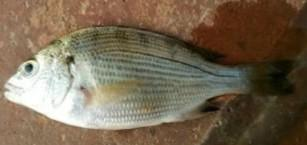fish: (3, 26, 303, 131)
